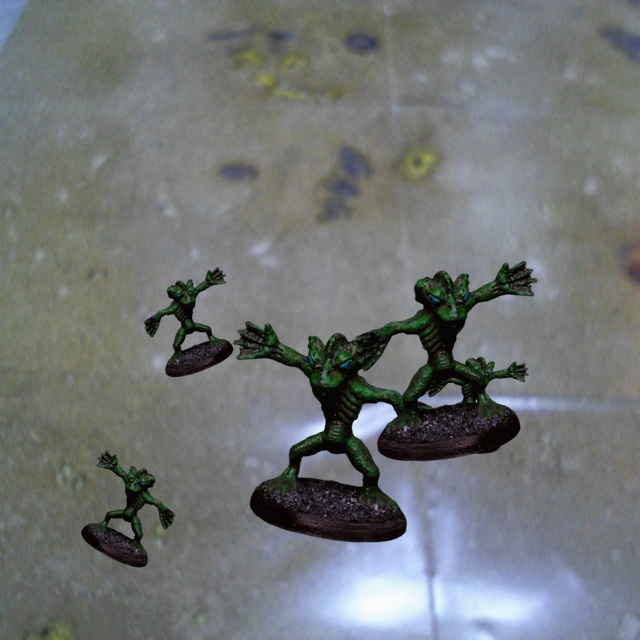pieza_juego: (233, 321, 432, 542), (355, 261, 537, 460), (81, 450, 174, 567), (425, 357, 528, 453), (144, 267, 232, 376)
